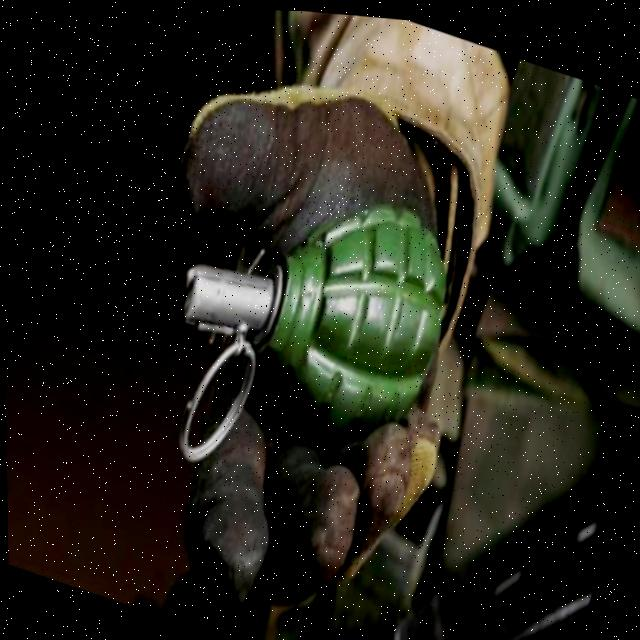grenade: (129, 128, 481, 535)
